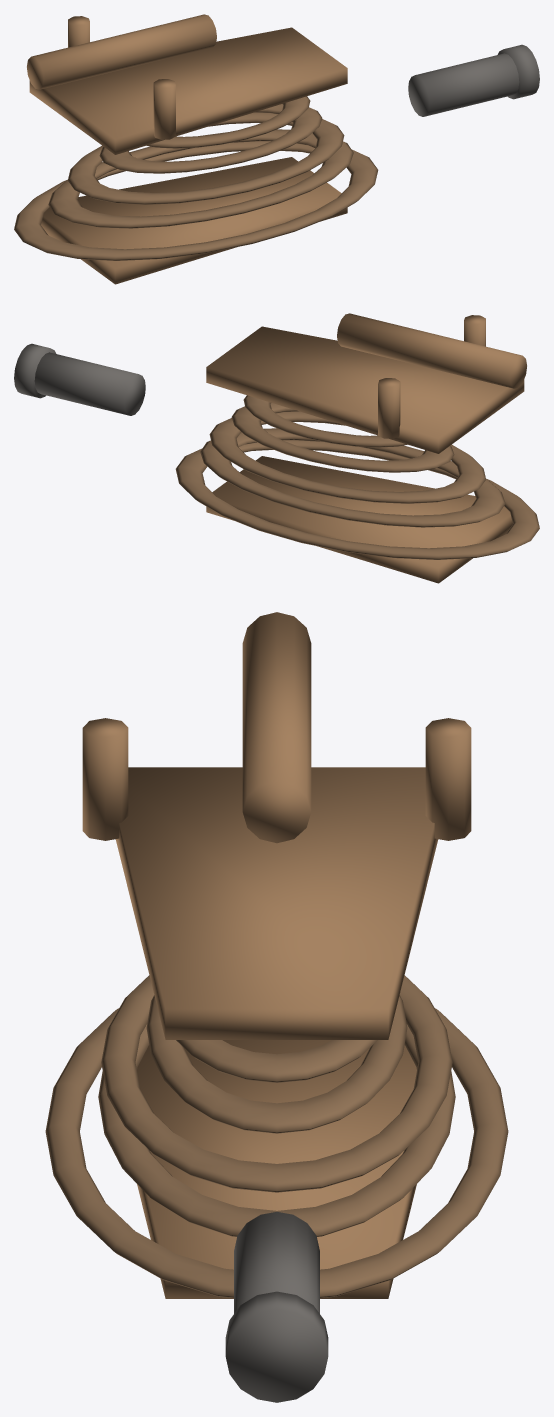
Rendered from bellows.glb.
3 views of the same model, one above another, from view 1: azimuth 30°, elevation 25°; view 2: azimuth 150°, elevation 25°; view 3: azimuth 270°, elevation 25° (orthographic). The views are drawn at different scales.
Parts seen in each view (by area): view 1: bellows; view 2: bellows; view 3: bellows.
Boxes of the visible parts, box(x1,y1,x2,y2) form: bellows: box(14, 14, 539, 284); bellows: box(14, 313, 539, 583); bellows: box(45, 612, 508, 1402).
Bounding box in the file's own units: 0.4074 × 0.158 × 0.162.
